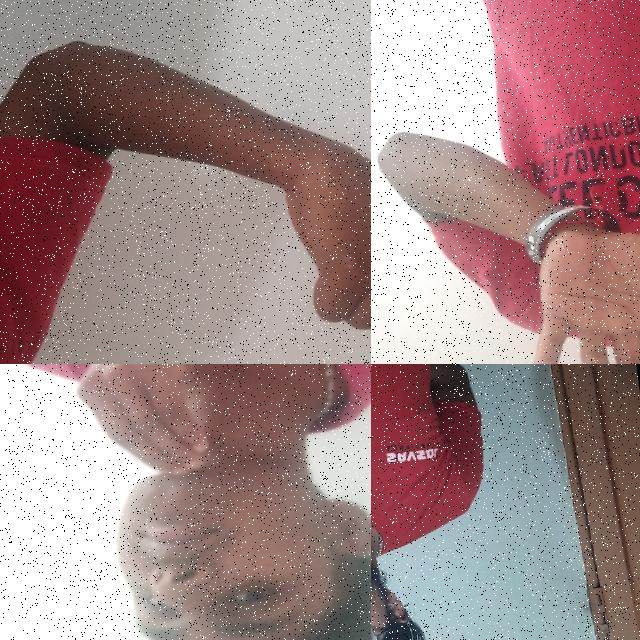Chin Flick: (11, 364, 371, 640)
Middle Finger: (267, 115, 371, 364)
Moutza: (506, 167, 640, 364)
